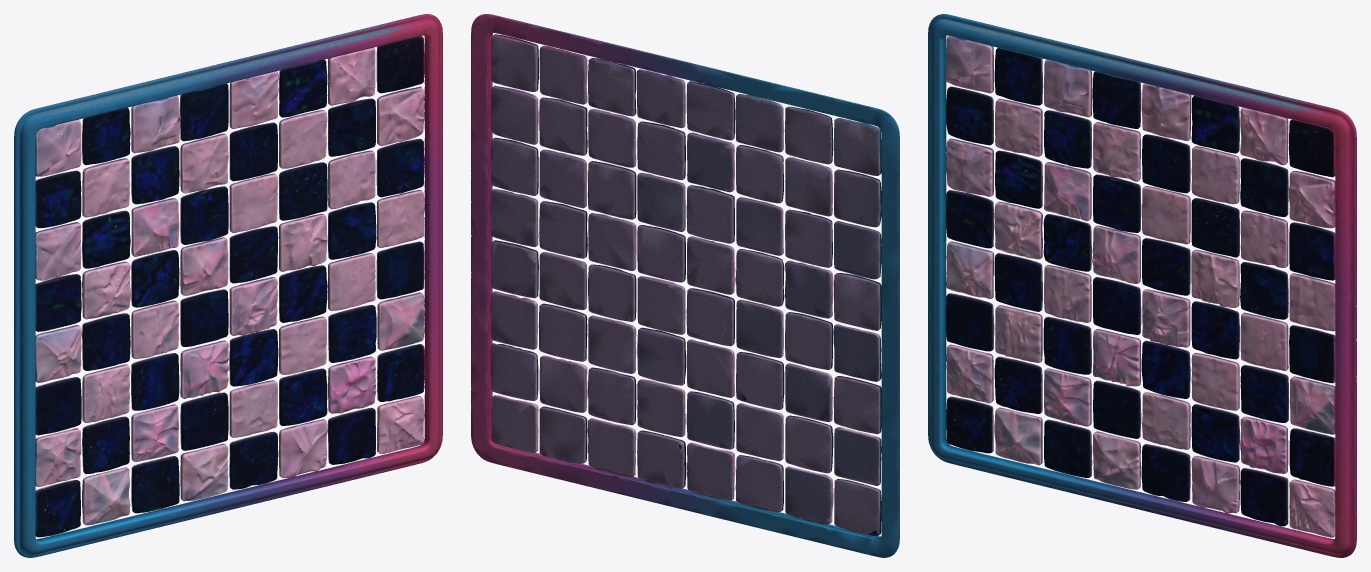
File: fancy-punk-board.glb
The picture shows the model from 3 angles, left to right: view 1: azimuth 30°, elevation 25°; view 2: azimuth 150°, elevation 25°; view 3: azimuth 330°, elevation 25°; orthographic projection.
Visible parts, largest first — view 1: mesh_node; view 2: mesh_node; view 3: mesh_node.
Boxes of the visible parts, bbox=[...] form: mesh_node: bbox=[14, 14, 442, 557]; mesh_node: bbox=[471, 14, 899, 557]; mesh_node: bbox=[928, 14, 1356, 557].
Size of the model in its own units: 1.9 by 1.9 by 0.048.
1 material, 1 textured.
